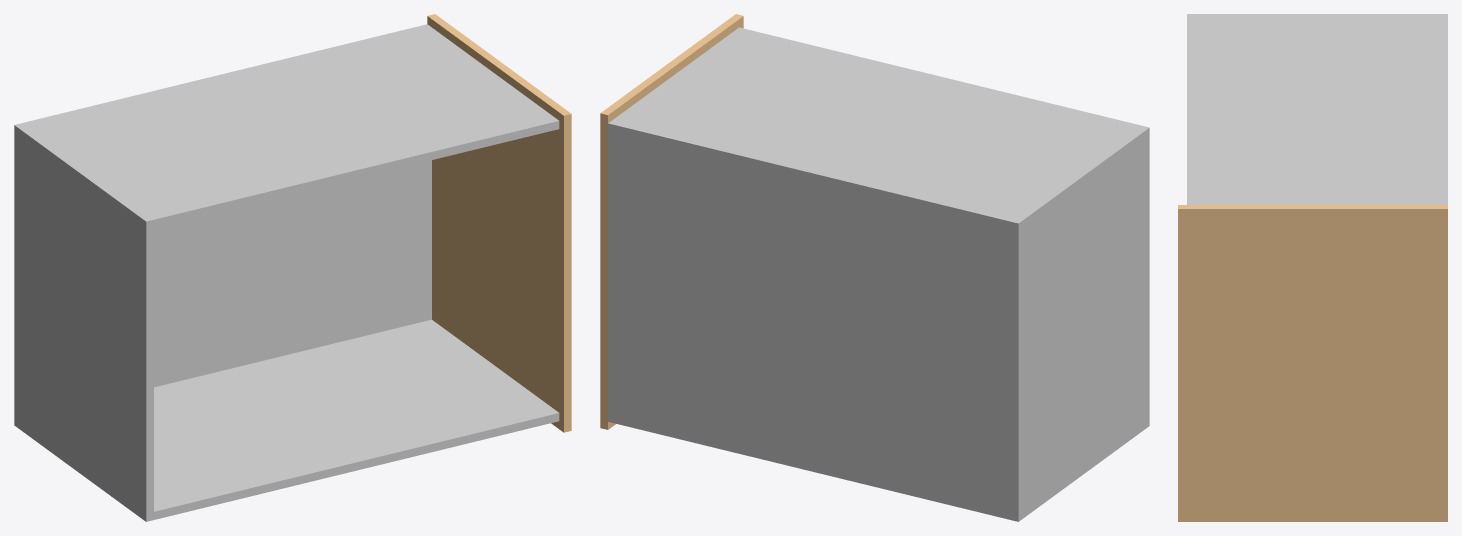
File: CUPBOARD-BODYSET4_link_mesh.dae
3 renders of one model, left to right at view 1: azimuth 30°, elevation 25°; view 2: azimuth 150°, elevation 25°; view 3: azimuth 270°, elevation 25°, orthographic.
Parts seen in each view (by area): view 1: CUPBOARD-BODYSET4_link (×2); view 2: CUPBOARD-BODYSET4_link (×2); view 3: CUPBOARD-BODYSET4_link (×2).
Boxes of the visible parts, x1,y1,x2,y2 form: CUPBOARD-BODYSET4_link (×2): (14, 14, 571, 521); CUPBOARD-BODYSET4_link (×2): (600, 14, 1149, 521); CUPBOARD-BODYSET4_link (×2): (1178, 14, 1447, 521).
Bounding box in the file's own units: 0.534 × 0.384 × 0.3.
